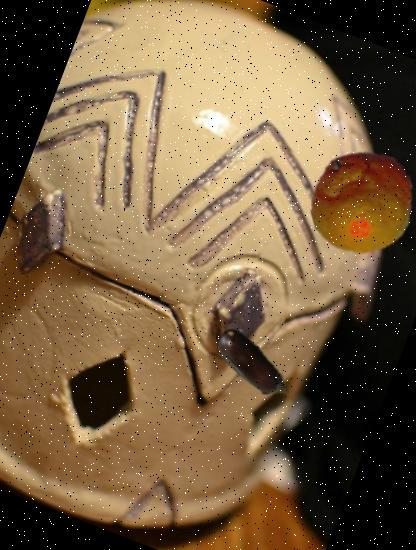Eggplant: (193, 306, 312, 424)
Mandarine: (293, 134, 416, 270)
